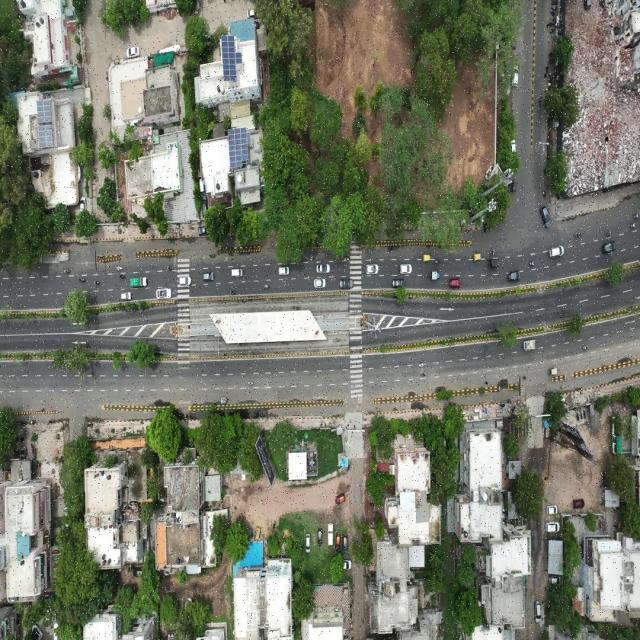3W: (486, 258, 502, 268), (472, 252, 483, 263), (422, 253, 432, 264), (547, 367, 558, 376), (512, 180, 517, 196)
Cars: (540, 203, 554, 231), (545, 520, 560, 538), (534, 596, 542, 628), (571, 497, 587, 513), (124, 44, 141, 59), (154, 287, 173, 300), (364, 262, 381, 276), (547, 246, 565, 259), (512, 62, 520, 91), (338, 278, 356, 290), (327, 522, 335, 549), (316, 262, 332, 275), (602, 241, 618, 254), (522, 339, 538, 352), (546, 502, 559, 518), (304, 532, 313, 554), (398, 262, 412, 275), (508, 270, 522, 283), (277, 266, 292, 278), (392, 278, 407, 290), (313, 277, 326, 290), (230, 267, 244, 279), (177, 276, 193, 286), (120, 290, 133, 302), (202, 270, 215, 282), (334, 493, 346, 506), (317, 526, 324, 548), (343, 531, 348, 555), (335, 532, 341, 551)
LCV: (129, 275, 150, 287), (428, 270, 441, 282), (220, 396, 229, 406)
M2W: (538, 92, 544, 109), (574, 231, 583, 241), (340, 255, 351, 262), (93, 279, 102, 287), (488, 248, 497, 256), (628, 222, 637, 230), (632, 210, 640, 219), (545, 64, 550, 77), (166, 264, 174, 272), (79, 277, 88, 284), (228, 289, 237, 296), (308, 256, 317, 263), (528, 261, 537, 268), (247, 380, 256, 387), (542, 188, 547, 200), (119, 273, 126, 281), (606, 230, 613, 238), (582, 344, 590, 351), (420, 371, 427, 379), (63, 269, 72, 275), (262, 283, 271, 289), (116, 266, 123, 272), (435, 258, 441, 265), (419, 363, 425, 368)
